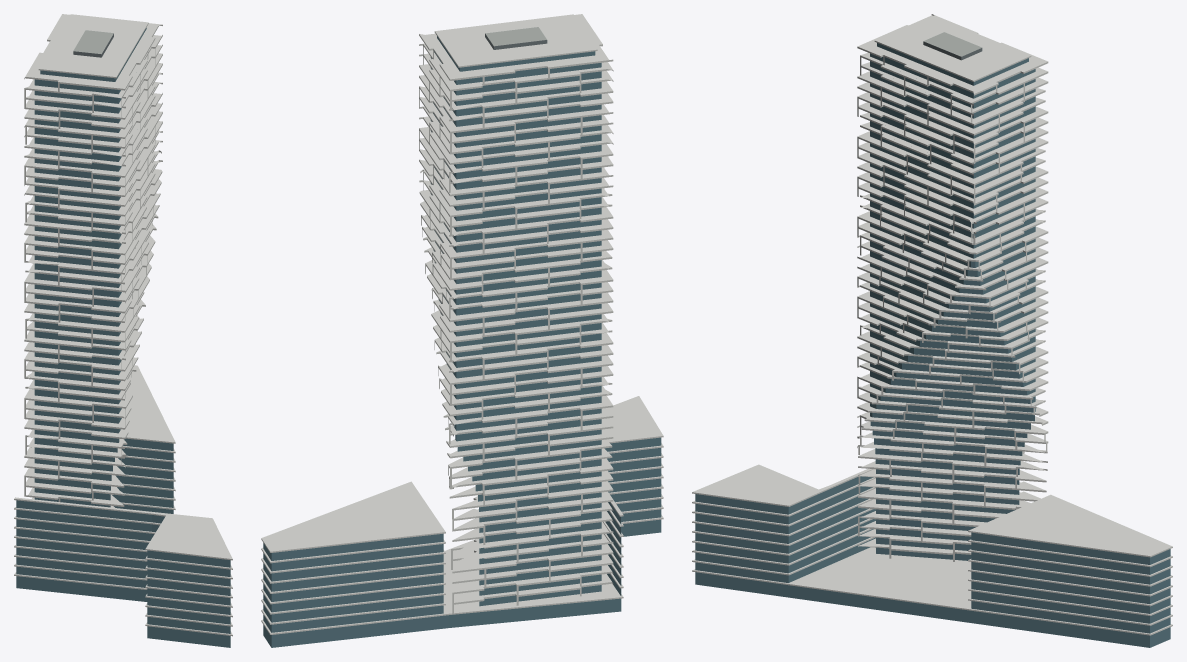
Rendered from vancouver-house-far.glb.
3 views of the same model, side by side, from view 1: azimuth 30°, elevation 25°; view 2: azimuth 150°, elevation 25°; view 3: azimuth 270°, elevation 25° (orthographic). The views are drawn at different scales.
Parts seen in each view (by area): view 1: vancouver-house-0-white, vancouver-house-0-glass, vancouver-house-0-roof; view 2: vancouver-house-0-white, vancouver-house-0-glass, vancouver-house-0-roof; view 3: vancouver-house-0-white, vancouver-house-0-glass, vancouver-house-0-roof.
Boxes of the visible parts, x1,y1,x2,y2 form: vancouver-house-0-white: [14, 14, 232, 636]; vancouver-house-0-glass: [16, 28, 230, 647]; vancouver-house-0-roof: [73, 30, 113, 54]; vancouver-house-0-white: [261, 14, 663, 634]; vancouver-house-0-glass: [263, 36, 661, 647]; vancouver-house-0-roof: [485, 27, 546, 46]; vancouver-house-0-white: [692, 14, 1172, 635]; vancouver-house-0-glass: [695, 43, 1170, 647]; vancouver-house-0-roof: [923, 32, 981, 56].
Bounding box in the file's own units: 72.14 × 156 × 127.
